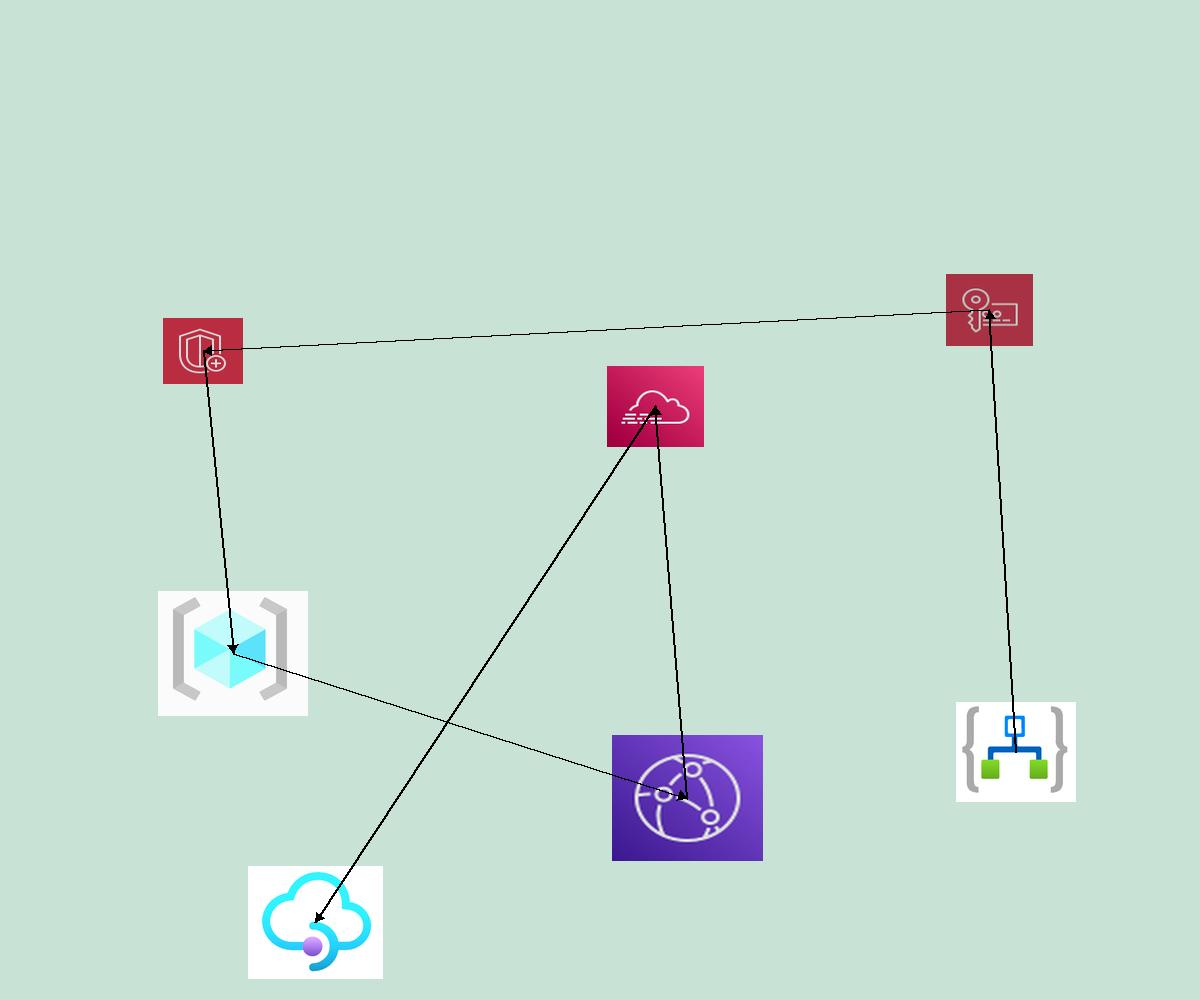AWS-CloudFront: (612, 735, 763, 861)
AWS-CloudTrail: (607, 366, 704, 447)
AWS-Key-Management-Service: (946, 274, 1033, 346)
AWS-Shield: (163, 318, 243, 384)
Azure_api_gateway: (248, 866, 383, 979)
Azure_integration-204-Logic-Apps: (956, 702, 1076, 802)
Azure_resource_group: (158, 591, 308, 716)
